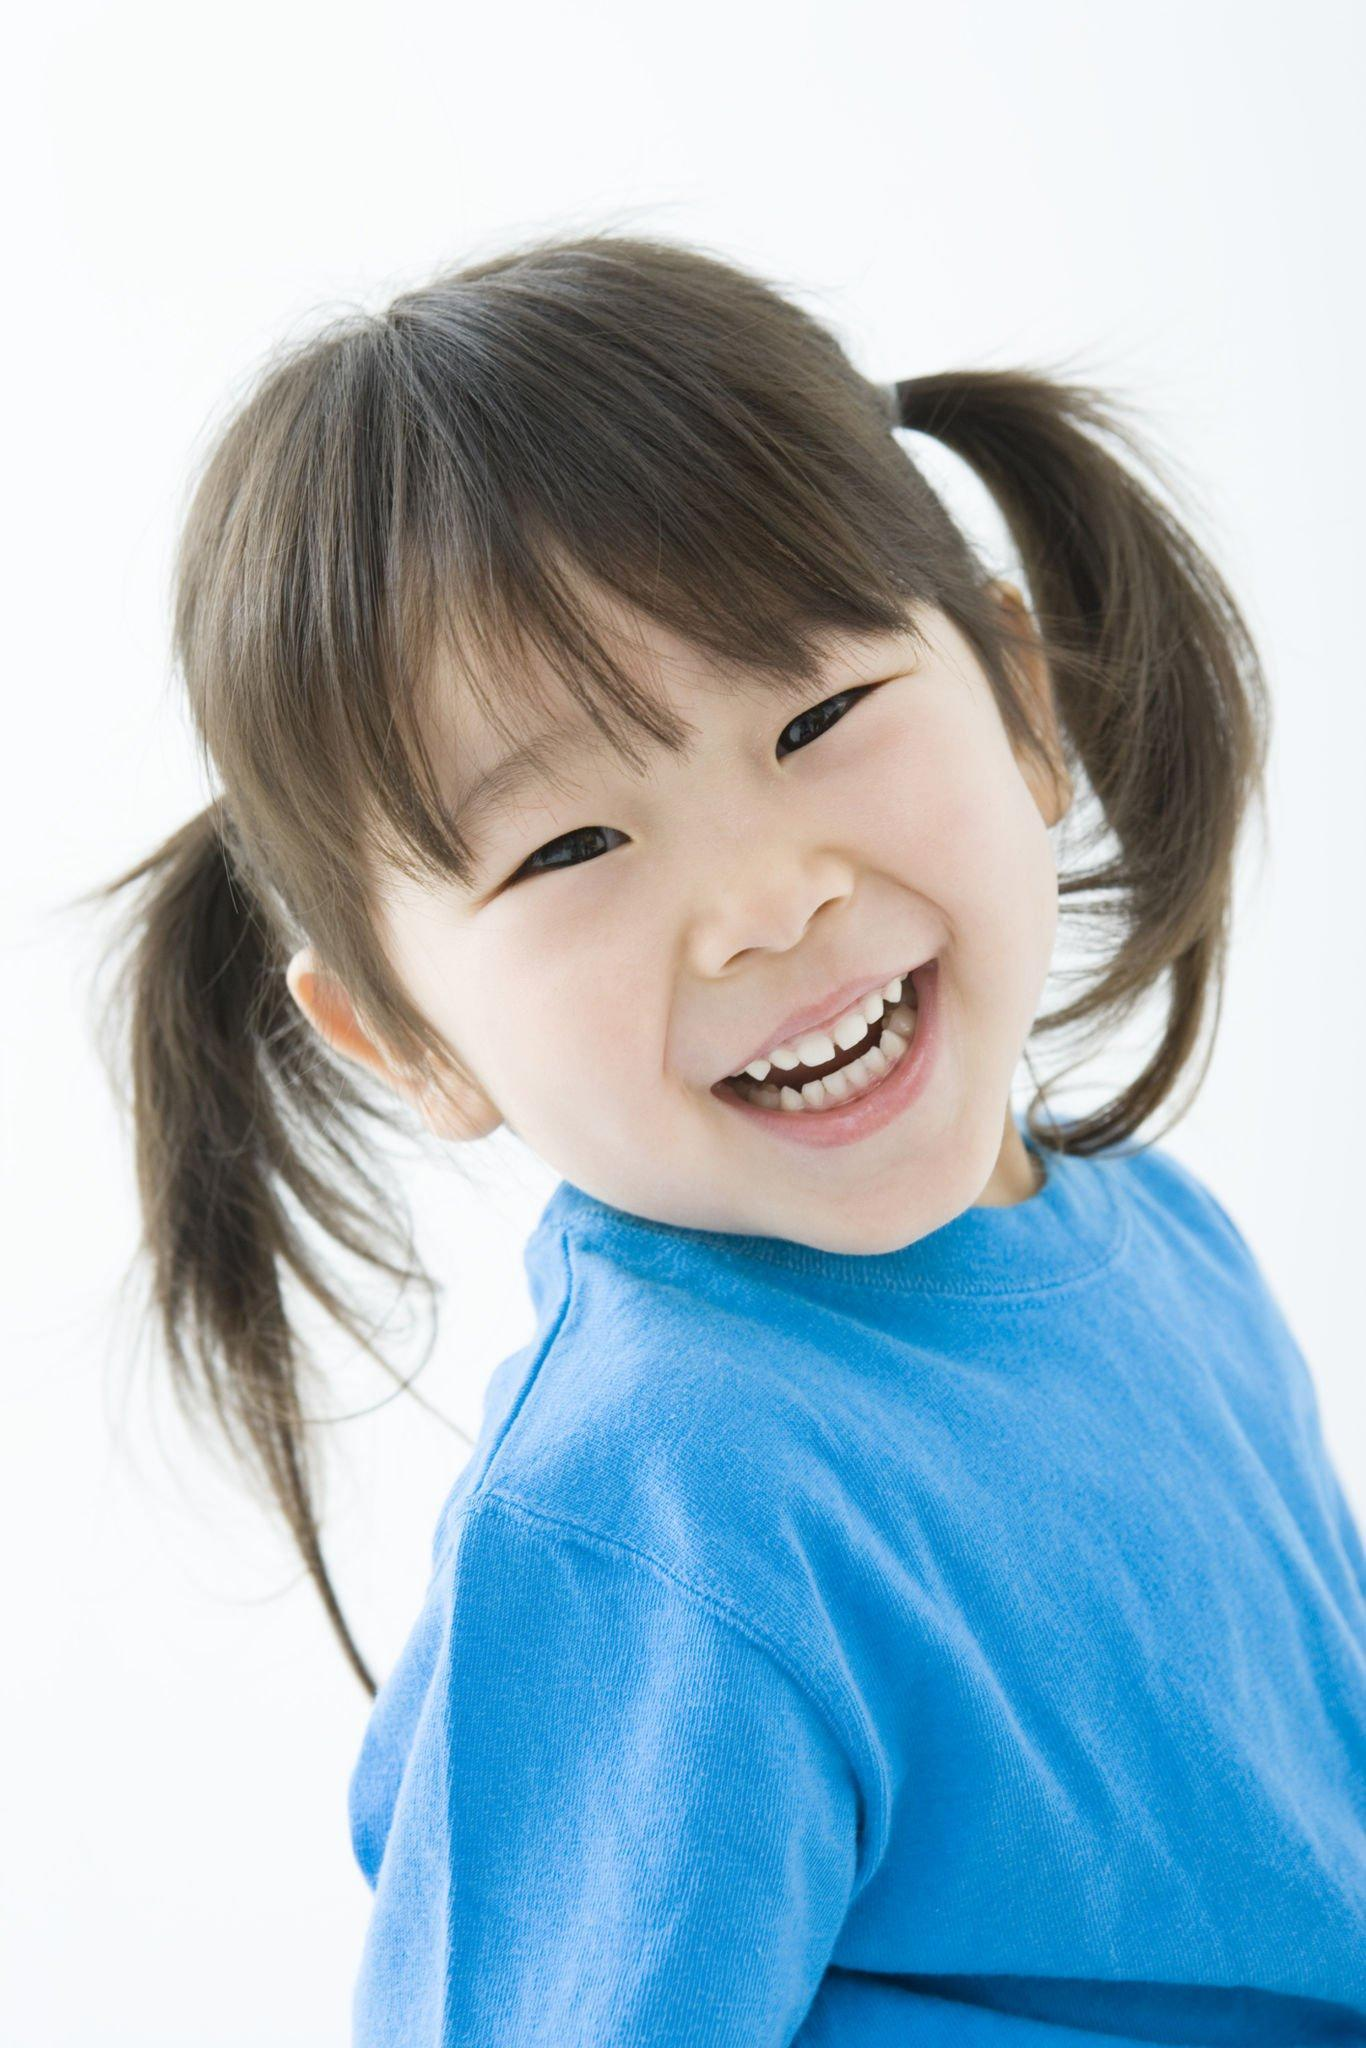Healthy: (207, 402, 1102, 1356)
